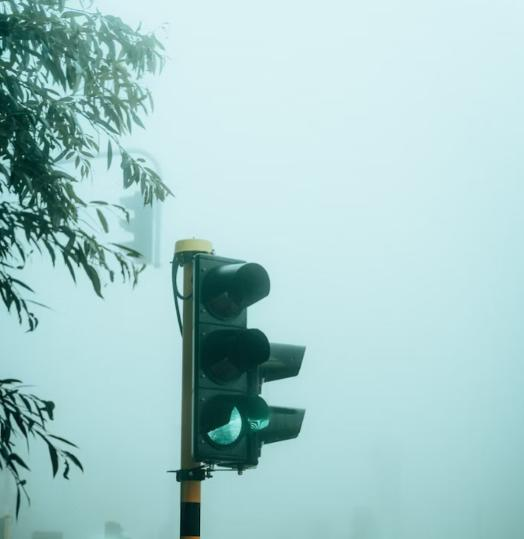green_light: (192, 253, 271, 468)
